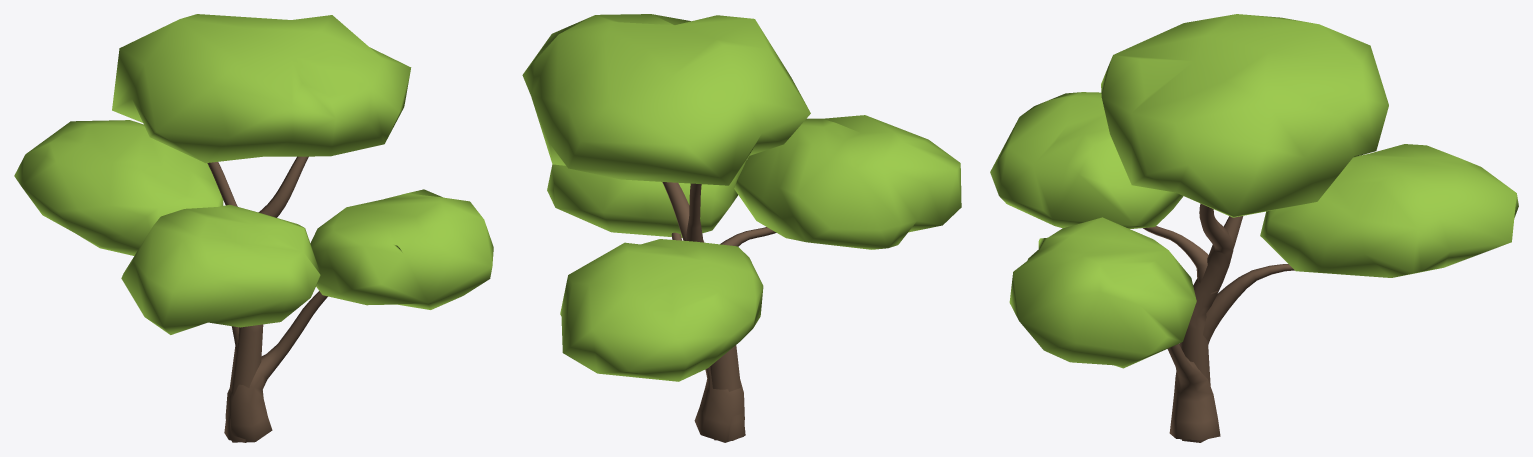
File: tree_11.fbx
3 views of the same model, side by side, from view 1: azimuth 30°, elevation 25°; view 2: azimuth 150°, elevation 25°; view 3: azimuth 270°, elevation 25° (orthographic). The views are drawn at different scales.
Parts seen in each view (by area): view 1: Tube; view 2: Tube; view 3: Tube.
Part boxes in pixels (x1,y1,x2,y2): Tube: (14, 14, 493, 442); Tube: (522, 14, 961, 442); Tube: (990, 14, 1518, 442).
Bounding box in the file's own units: 252 × 262 × 303.
